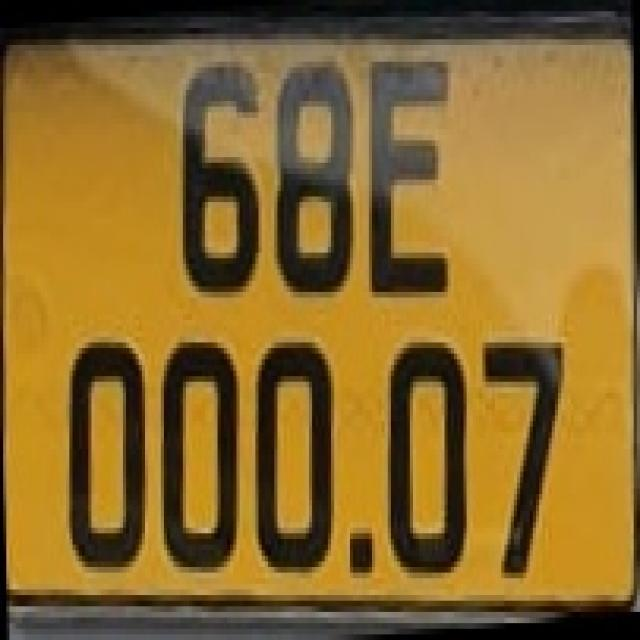0: (378, 326, 473, 578), (249, 326, 341, 578), (60, 326, 152, 572), (158, 331, 242, 573)
6: (170, 50, 265, 298)
7: (476, 320, 568, 584)
8: (268, 45, 360, 298)
E: (366, 45, 458, 303)
